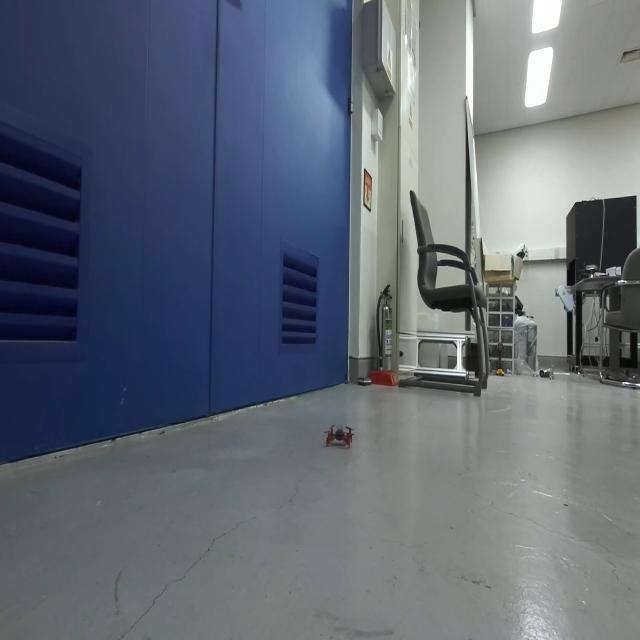crazyflie: (323, 417, 358, 456)
